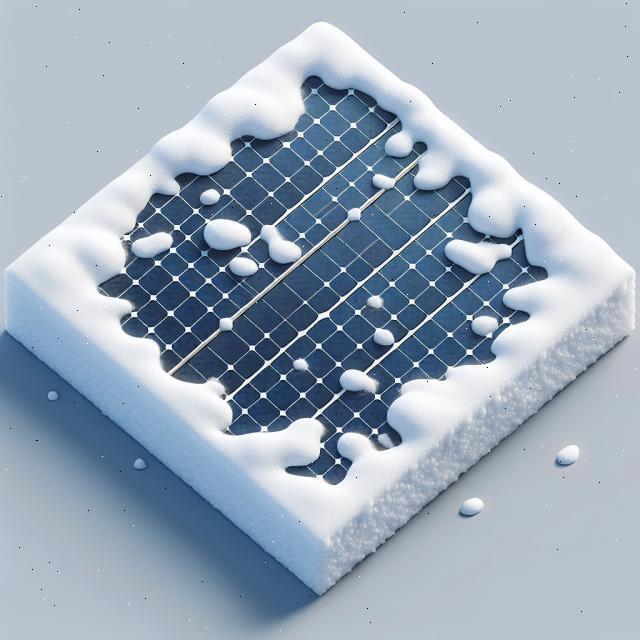Anomaly Solar Panel: (5, 0, 635, 581)
Snow: (5, 0, 635, 581), (247, 217, 304, 270), (441, 237, 513, 278), (200, 216, 253, 252), (335, 363, 383, 399), (128, 228, 175, 261), (225, 252, 259, 279), (466, 311, 499, 338), (370, 325, 396, 346), (368, 172, 396, 191), (288, 353, 310, 373), (363, 292, 385, 312), (196, 187, 220, 205), (346, 206, 361, 221), (218, 316, 231, 330)
